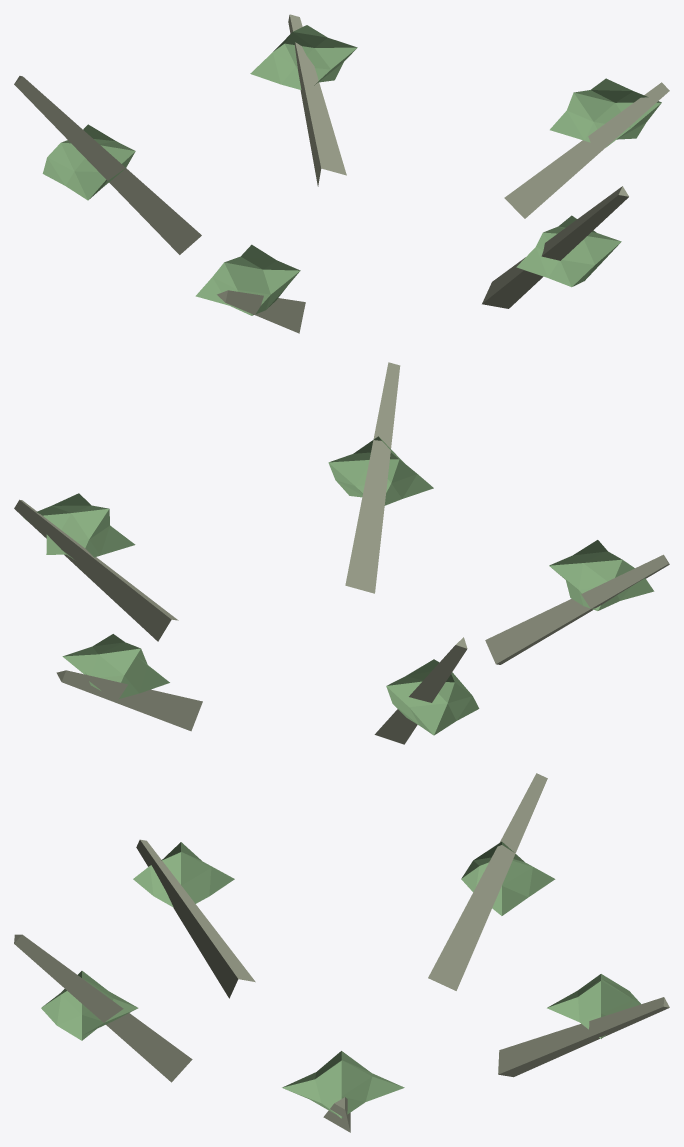
Rendered from bramble_v46.glb.
The picture shows the model from 3 angles, top to bottom: view 1: azimuth 30°, elevation 25°; view 2: azimuth 150°, elevation 25°; view 3: azimuth 270°, elevation 25°; orthographic projection. The views are drawn at different scales.
Visible parts, largest first — view 1: lod0; view 2: lod0; view 3: lod0.
Boxes of the visible parts, x1,y1,x2,y2 form: lod0: [14, 14, 669, 333]; lod0: [14, 362, 669, 744]; lod0: [14, 773, 669, 1132].
Size of what is drawn, in the model's own units: 0.8627 by 0.2551 by 0.9.
